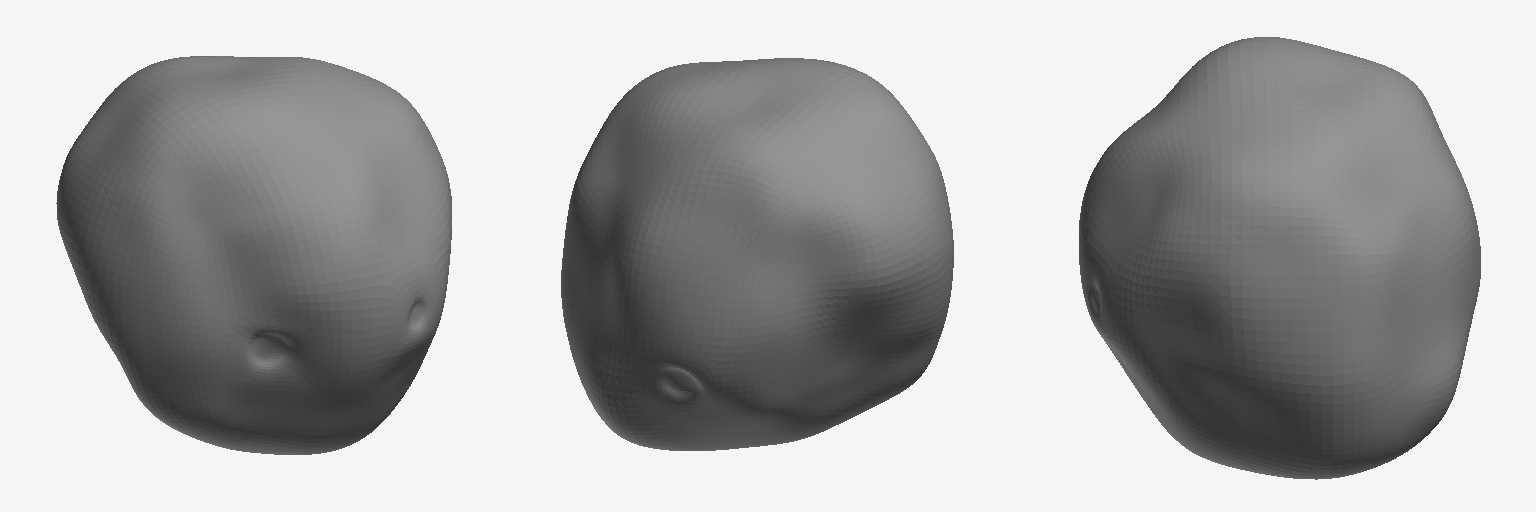
File: steroid.obj
3 views of the same model, side by side, from view 1: azimuth 30°, elevation 25°; view 2: azimuth 150°, elevation 25°; view 3: azimuth 270°, elevation 25° (orthographic).
Parts seen in each view (by area): view 1: 10464_Asteroid_v1_Iterations-2; view 2: 10464_Asteroid_v1_Iterations-2; view 3: 10464_Asteroid_v1_Iterations-2.
Boxes of the visible parts, <box> form: 10464_Asteroid_v1_Iterations-2: <box>56,56,451,454</box>; 10464_Asteroid_v1_Iterations-2: <box>561,58,953,450</box>; 10464_Asteroid_v1_Iterations-2: <box>1079,37,1480,479</box>.
Size of the model in its own units: 1365 by 1383 by 1377.